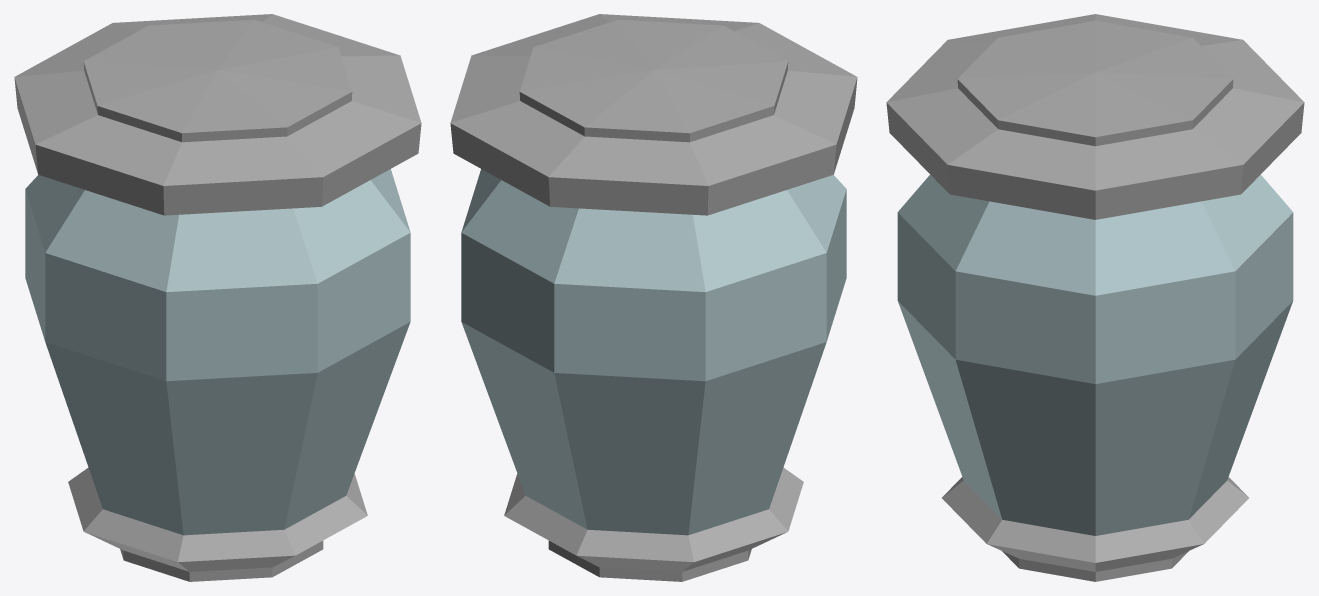
The model's file is Lantern2.fbx.
3 renders of one model, left to right at view 1: azimuth 30°, elevation 25°; view 2: azimuth 150°, elevation 25°; view 3: azimuth 270°, elevation 25°, orthographic.
Visible parts, largest first — view 1: Lantern; view 2: Lantern; view 3: Lantern.
Part boxes in pixels (x1,y1,x2,y2): Lantern: (14, 14, 421, 581); Lantern: (450, 14, 857, 581); Lantern: (886, 14, 1304, 581).
Bounding box in the file's own units: 2.11 × 2.59 × 2.11.
